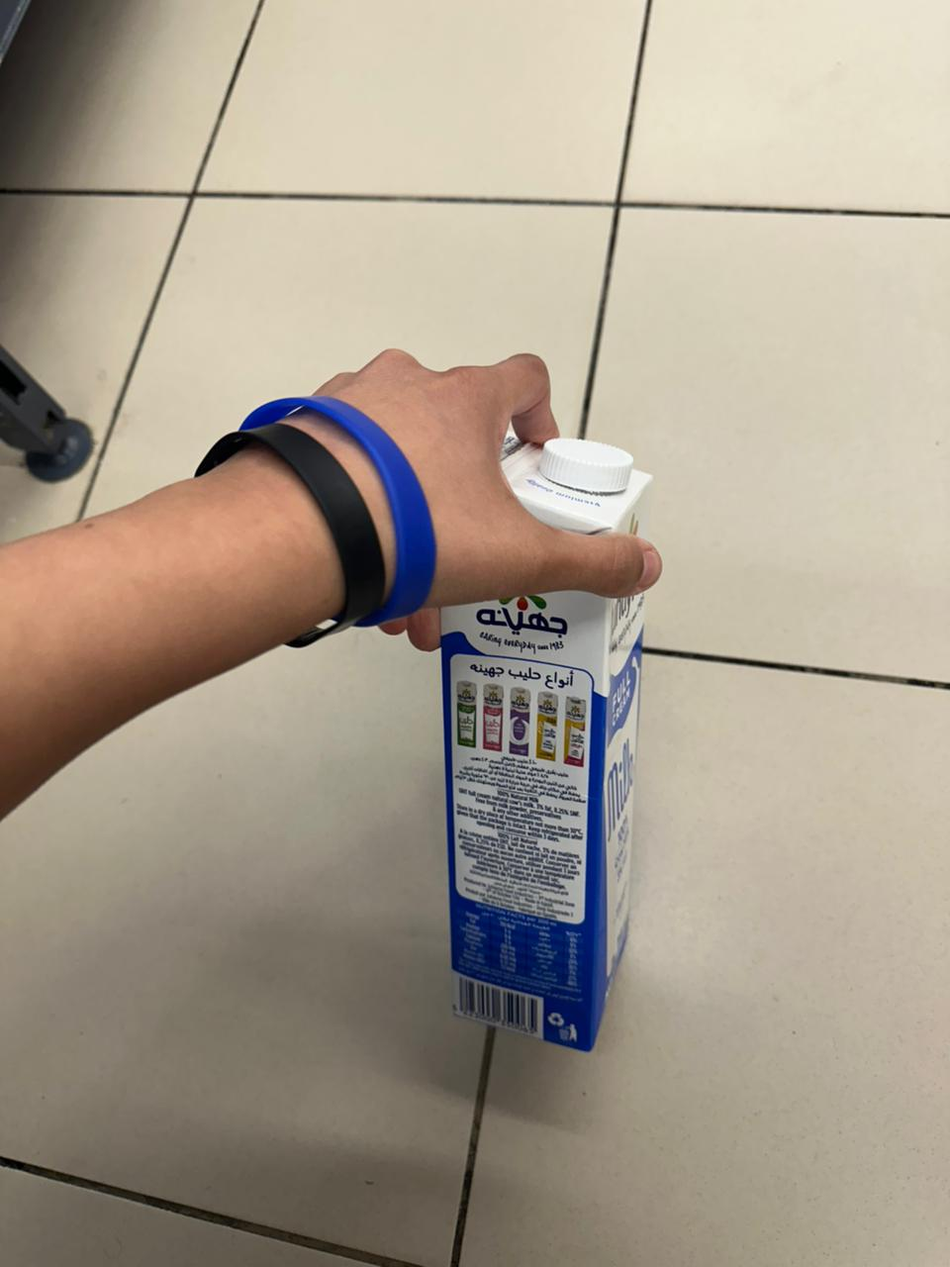milk: (441, 592, 642, 1049)
